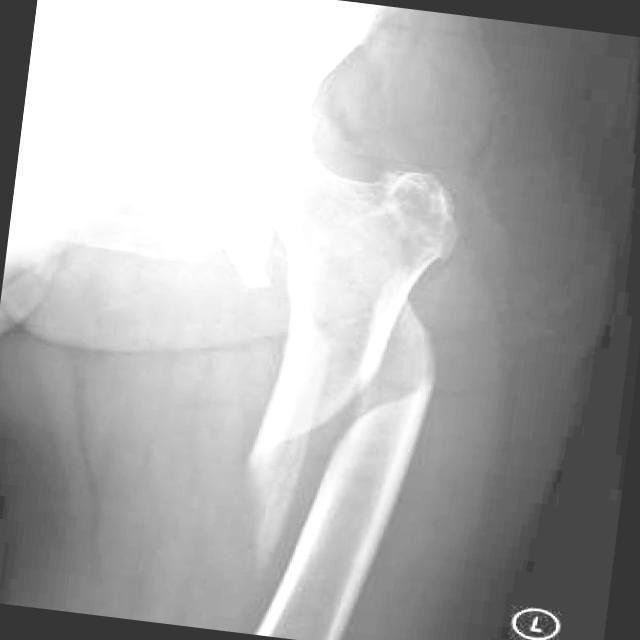Impact Fracture: (279, 332, 431, 474)
